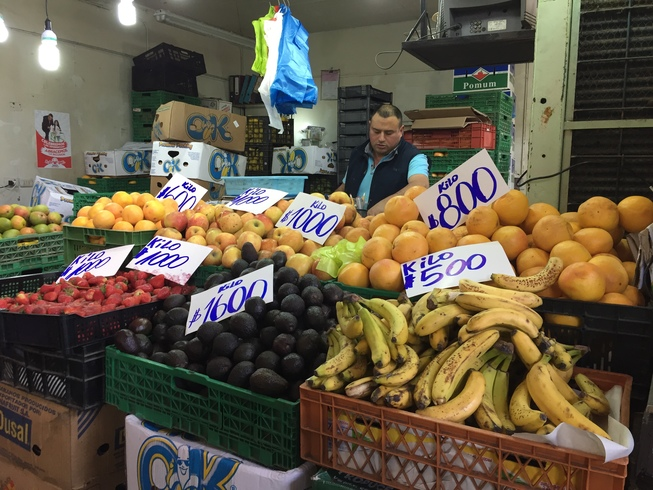precio: (411, 147, 511, 237), (398, 239, 521, 306), (185, 261, 279, 342), (130, 228, 220, 293), (278, 190, 356, 246), (56, 240, 139, 290), (151, 171, 208, 216), (229, 181, 288, 222)
